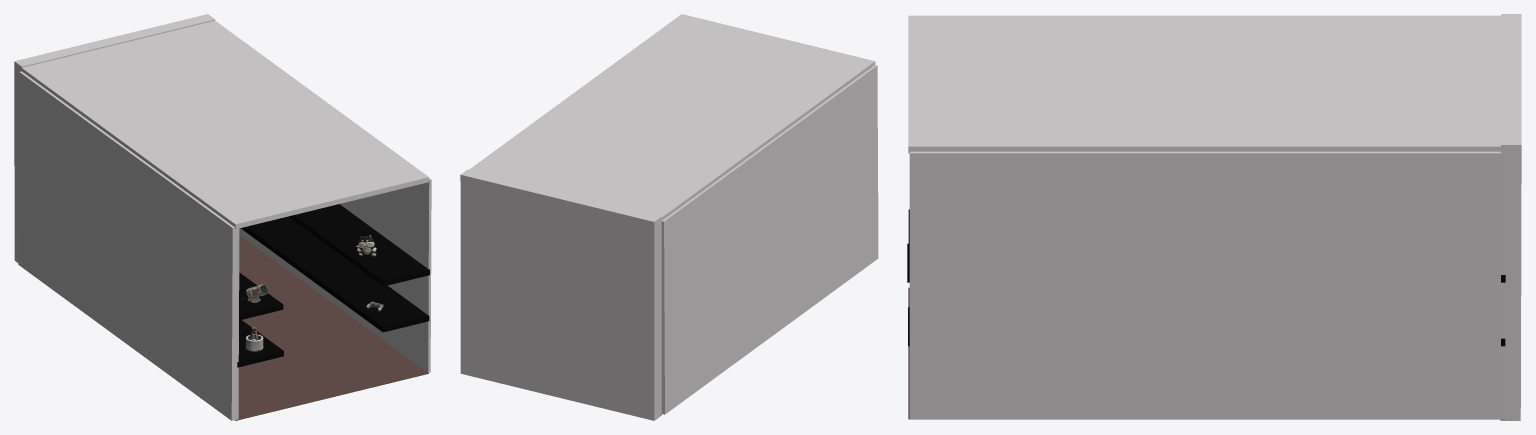
The model's file is asset.glb.
The picture shows the model from 3 angles, left to right: view 1: azimuth 30°, elevation 25°; view 2: azimuth 150°, elevation 25°; view 3: azimuth 270°, elevation 25°; orthographic projection. The views are drawn at different scales.
Visible parts, largest first — view 1: Cube.002, Cube, Cube.001, Cube.003, Cube.004, Cube.008, Cube.006, Cube.007, Cube.005; view 2: Cube.002, Cube.006, Cube; view 3: Cube.003, Cube, Cube.006.
Part boxes in pixels (x1,y1,x2,y2): Cube.002: (18, 71, 239, 420); Cube: (20, 20, 428, 229); Cube.001: (235, 235, 428, 420); Cube.003: (239, 178, 431, 372); Cube.004: (240, 216, 429, 332); Cube.008: (288, 204, 429, 286); Cube.006: (14, 14, 215, 262); Cube.007: (239, 272, 283, 320); Cube.005: (237, 320, 283, 367); Cube.002: (661, 65, 878, 414); Cube.006: (460, 169, 661, 420); Cube: (469, 14, 875, 223); Cube.003: (909, 151, 1500, 419); Cube: (908, 15, 1504, 153); Cube.006: (1500, 14, 1521, 420).
Bounding box in the file's own units: 2.07 × 1.97 × 3.97.
8 materials, 4 textured.
